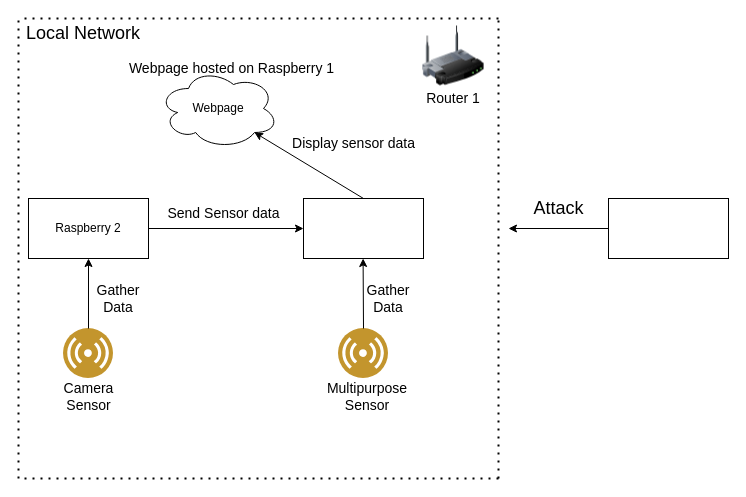
Image size: 746x497. Some labels were removed from this diagram. Each missing label, with the box of its shape:
Laptop: (608, 198, 728, 258)
Raspberry 1: (302, 198, 424, 258)
